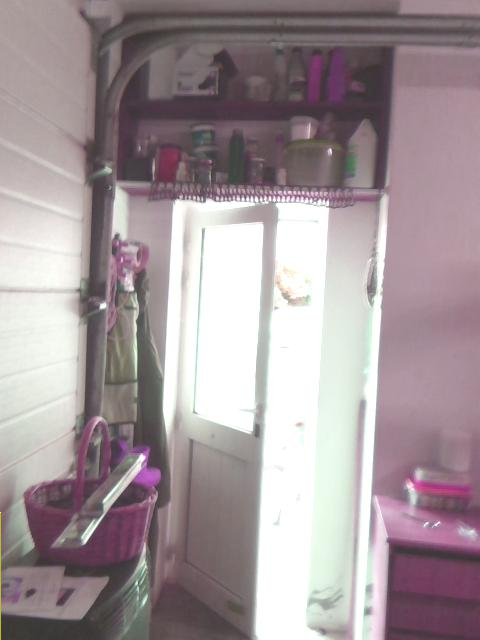semi_door: (163, 196, 329, 639)
